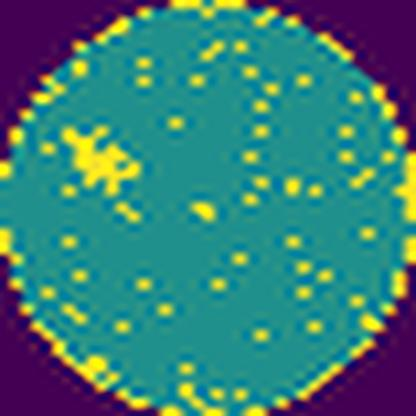Loc: (63, 122, 139, 194)
